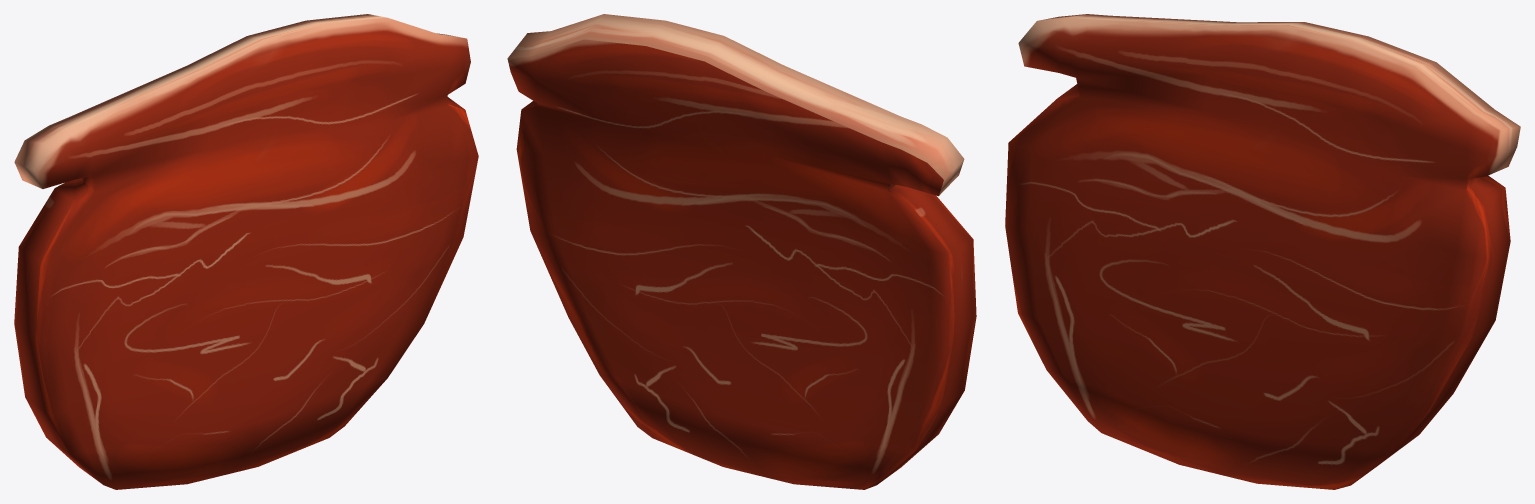
Rendered from marinated_pork.fbx.
3 views of the same model, side by side, from view 1: azimuth 30°, elevation 25°; view 2: azimuth 150°, elevation 25°; view 3: azimuth 330°, elevation 25° (orthographic). The views are drawn at different scales.
Parts seen in each view (by area): view 1: marinated_pork; view 2: marinated_pork; view 3: marinated_pork.
Part boxes in pixels (x1,y1,x2,y2): marinated_pork: [14, 14, 478, 489]; marinated_pork: [507, 14, 976, 489]; marinated_pork: [1005, 14, 1520, 489].
Bounding box in the file's own units: 63.64 × 57.76 × 8.17.
